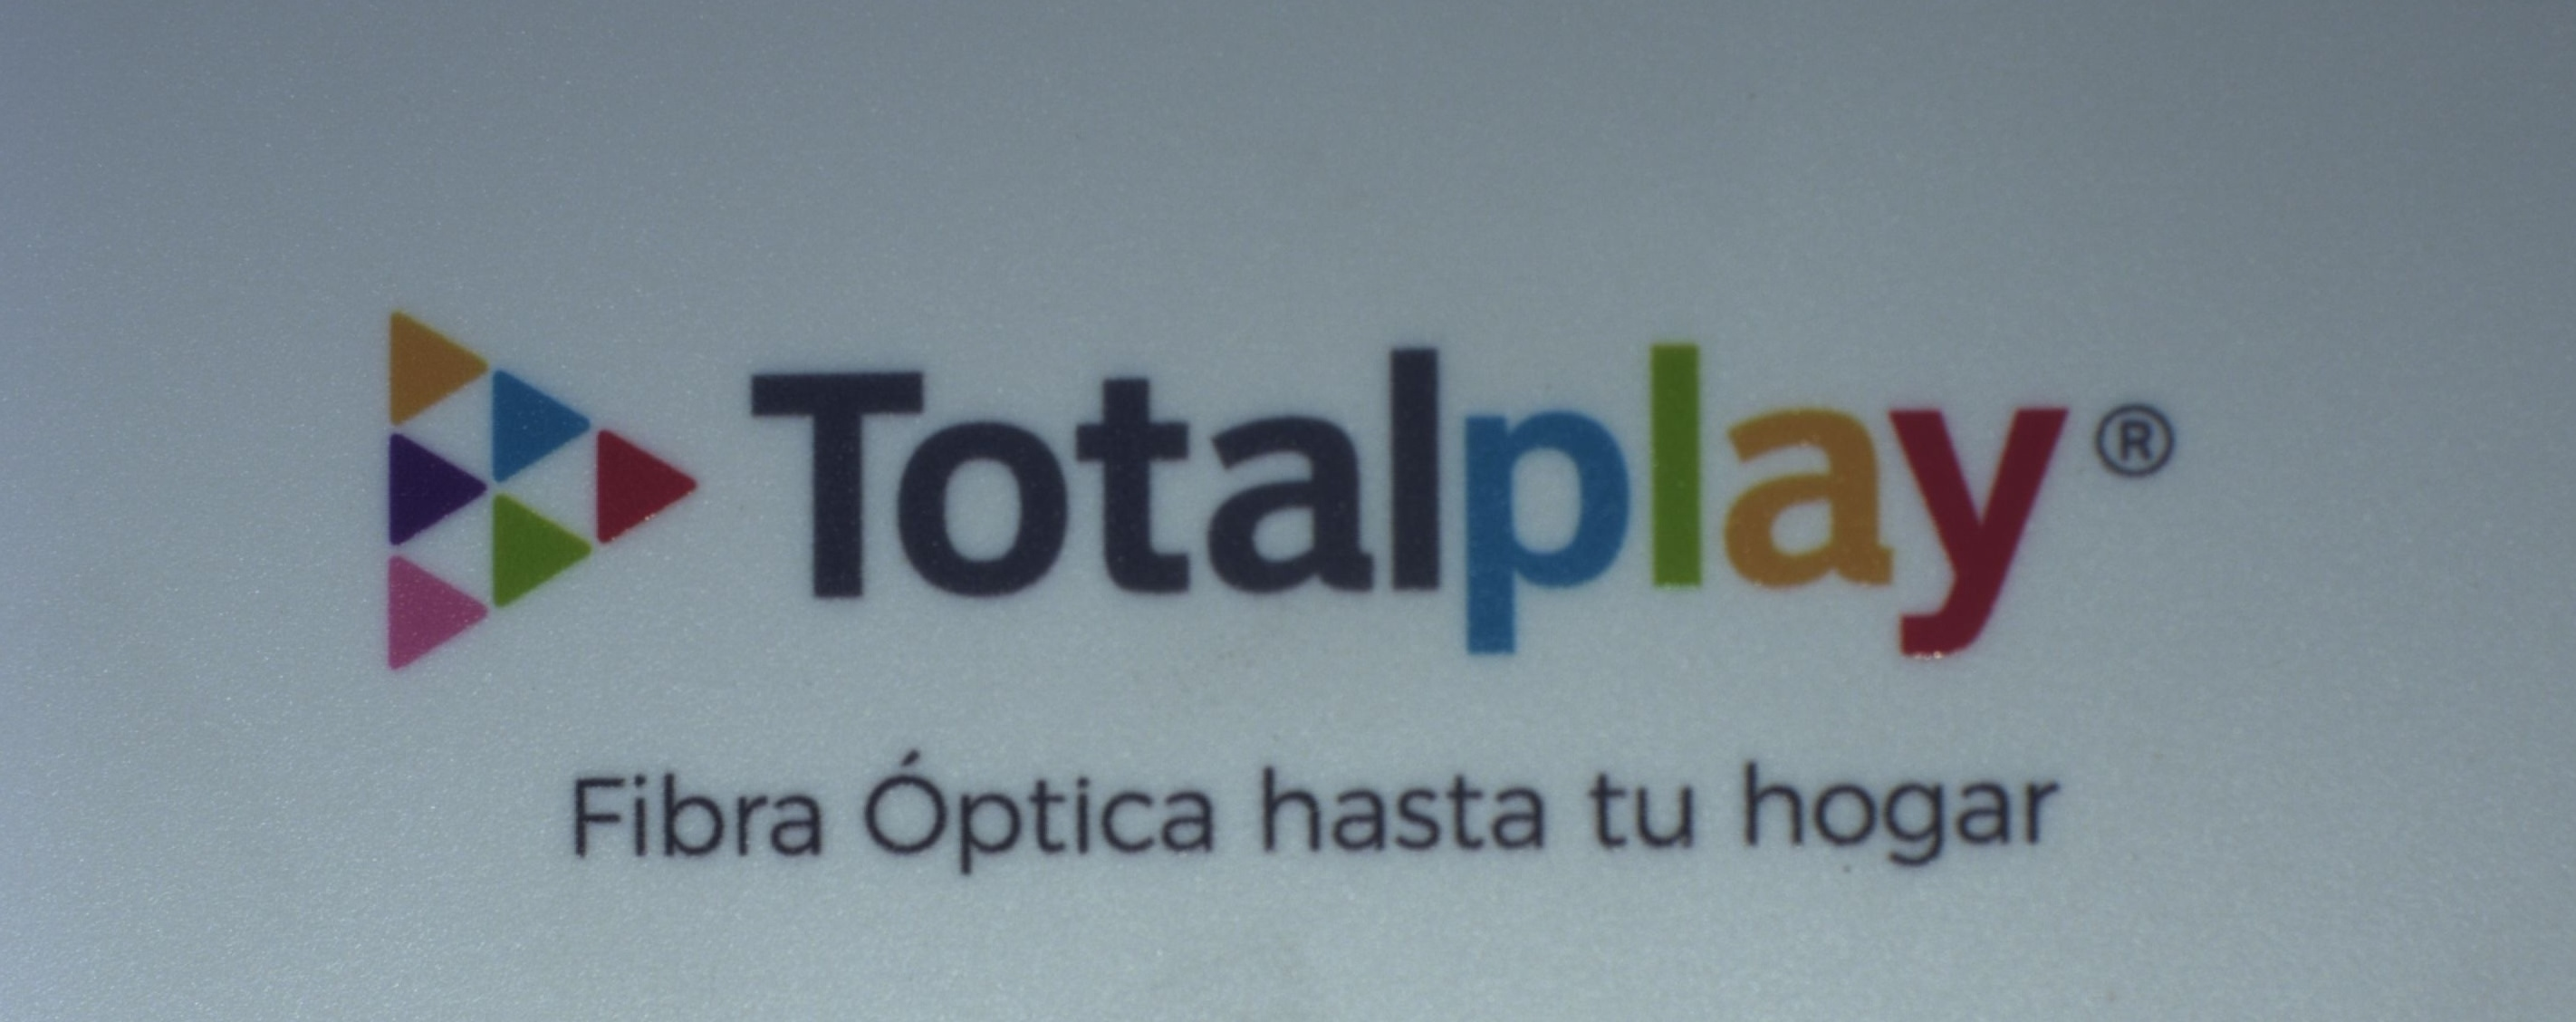BP_TotalPlay: (348, 289, 2192, 889)
